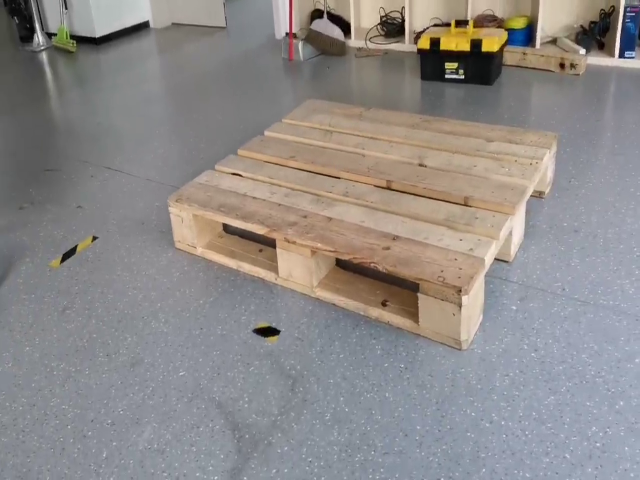block: (411, 264, 489, 352), (271, 226, 316, 292), (167, 196, 204, 252), (509, 196, 528, 258), (544, 130, 561, 194)
front: (169, 196, 460, 353)
hole pallet: (314, 246, 417, 324), (196, 212, 276, 278)
